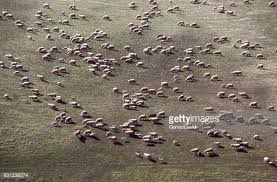sheep: (142, 45, 152, 55), (27, 94, 39, 102), (231, 69, 243, 77), (248, 100, 258, 109), (134, 61, 145, 69), (203, 146, 214, 154), (142, 151, 152, 159), (203, 106, 214, 113), (58, 65, 67, 73), (155, 90, 164, 98), (160, 80, 169, 88), (148, 116, 158, 123), (46, 102, 56, 109), (127, 78, 136, 85), (74, 128, 81, 137), (238, 91, 247, 98), (35, 73, 44, 80), (209, 74, 218, 81), (68, 58, 76, 65), (190, 21, 198, 28), (61, 18, 69, 25), (171, 86, 180, 92), (78, 13, 87, 19), (41, 54, 50, 60), (212, 50, 222, 55), (80, 109, 87, 116), (111, 86, 119, 92), (101, 14, 110, 19), (186, 95, 192, 102), (256, 53, 264, 58)
